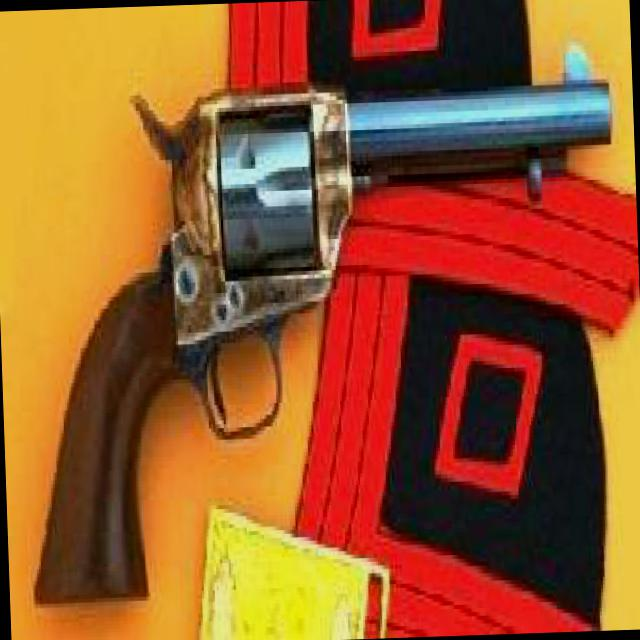handgun: (11, 40, 628, 604)
